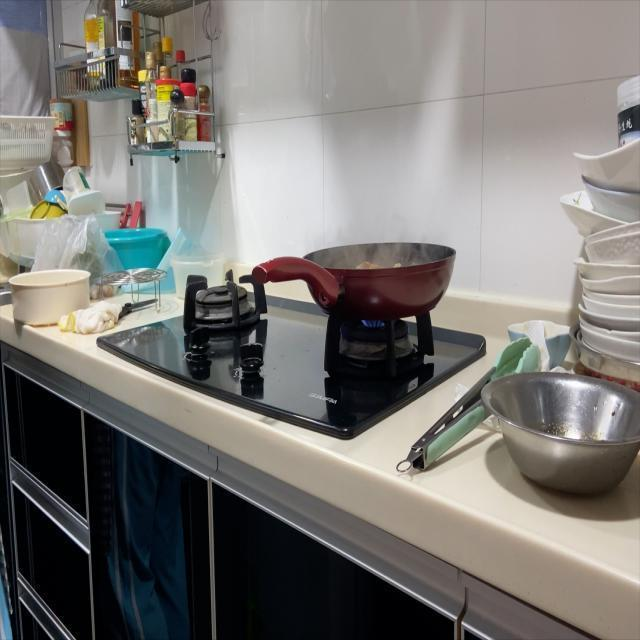Flame: (355, 315, 405, 334)
Pan: (300, 243, 459, 313)
